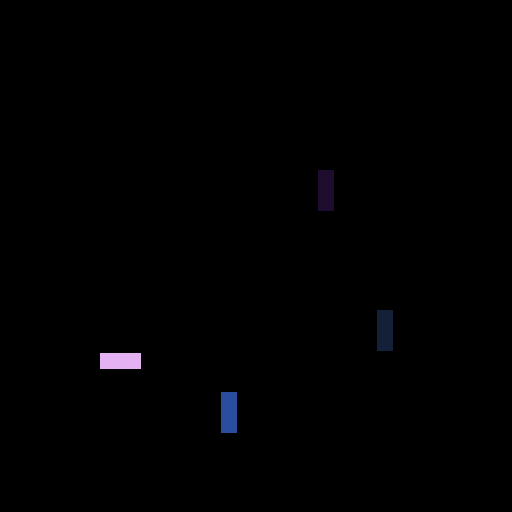side_rect: (96, 349, 146, 373)
up_rect: (317, 169, 336, 212), (374, 307, 393, 350), (217, 393, 236, 436)
